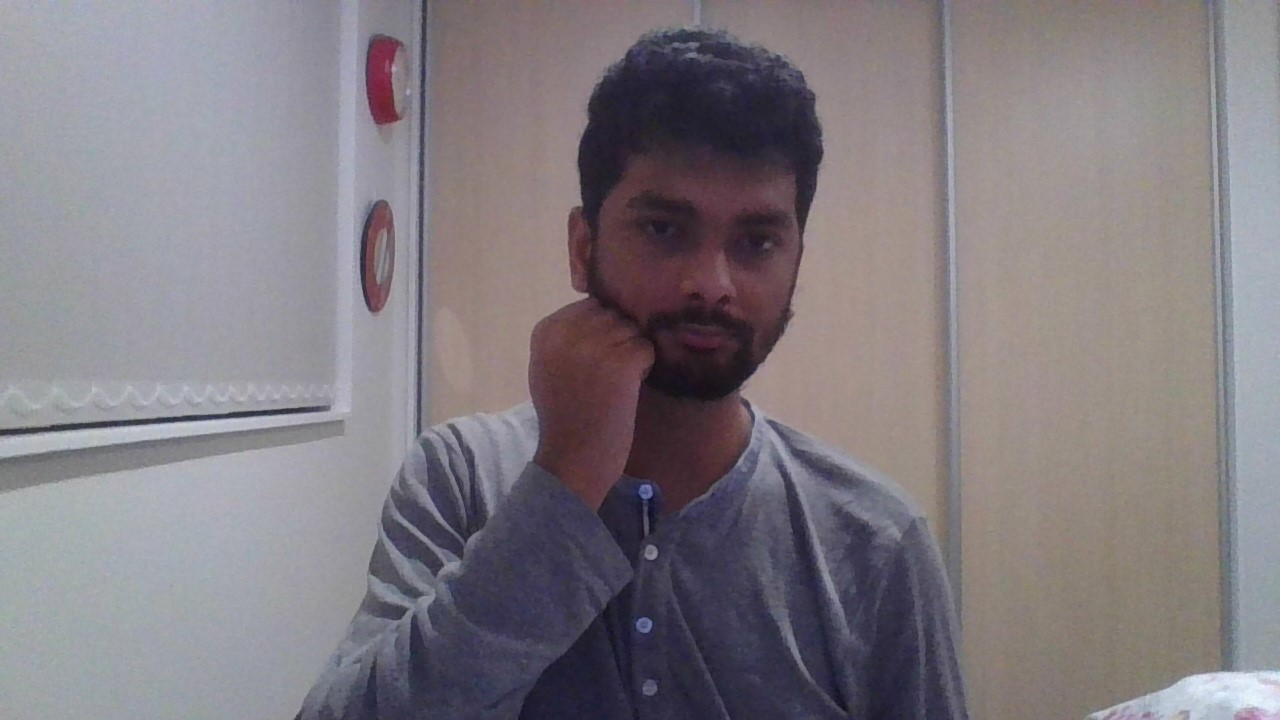day: (530, 296, 657, 513)
